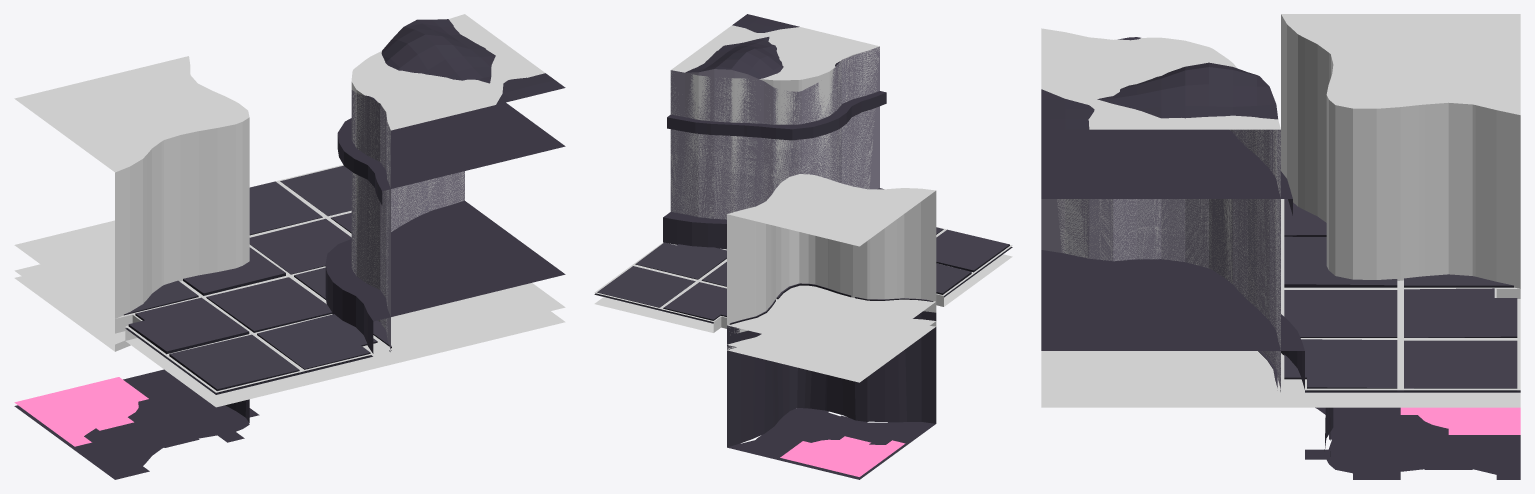
The model's file is Tile_LFWF.fbx.
3 renders of one model, left to right at view 1: azimuth 30°, elevation 25°; view 2: azimuth 150°, elevation 25°; view 3: azimuth 270°, elevation 25°, orthographic. The views are drawn at different scales.
Parts seen in each view (by area): view 1: Tile_LFWF, Tile_LFWF_ColCrackBlocker, Tile_LFWF_ColWall, Tile_LFWF_ColGround, Tile_LFWF_ColCrackSurface; view 2: Tile_LFWF, Tile_LFWF_ColCrackBlocker, Tile_LFWF_ColWall, Tile_LFWF_ColCrackSurface, Tile_LFWF_ColGround; view 3: Tile_LFWF, Tile_LFWF_ColCrackBlocker, Tile_LFWF_ColWall, Tile_LFWF_ColGround.
Boxes of the visible parts, x1,y1,x2,y2 form: Tile_LFWF: (14, 19, 565, 479); Tile_LFWF_ColCrackBlocker: (14, 56, 249, 318); Tile_LFWF_ColWall: (351, 14, 565, 349); Tile_LFWF_ColGround: (115, 165, 565, 407); Tile_LFWF_ColCrackSurface: (14, 264, 130, 351); Tile_LFWF: (594, 14, 1012, 479); Tile_LFWF_ColCrackBlocker: (727, 174, 936, 357); Tile_LFWF_ColWall: (670, 25, 879, 219); Tile_LFWF_ColCrackSurface: (727, 319, 936, 382); Tile_LFWF_ColGround: (594, 227, 1012, 333); Tile_LFWF: (1041, 37, 1520, 479); Tile_LFWF_ColCrackBlocker: (1281, 14, 1520, 288); Tile_LFWF_ColWall: (1041, 28, 1280, 390); Tile_LFWF_ColGround: (1041, 199, 1520, 407).
Bounding box in the file's own units: 5 × 5.45 × 5.
